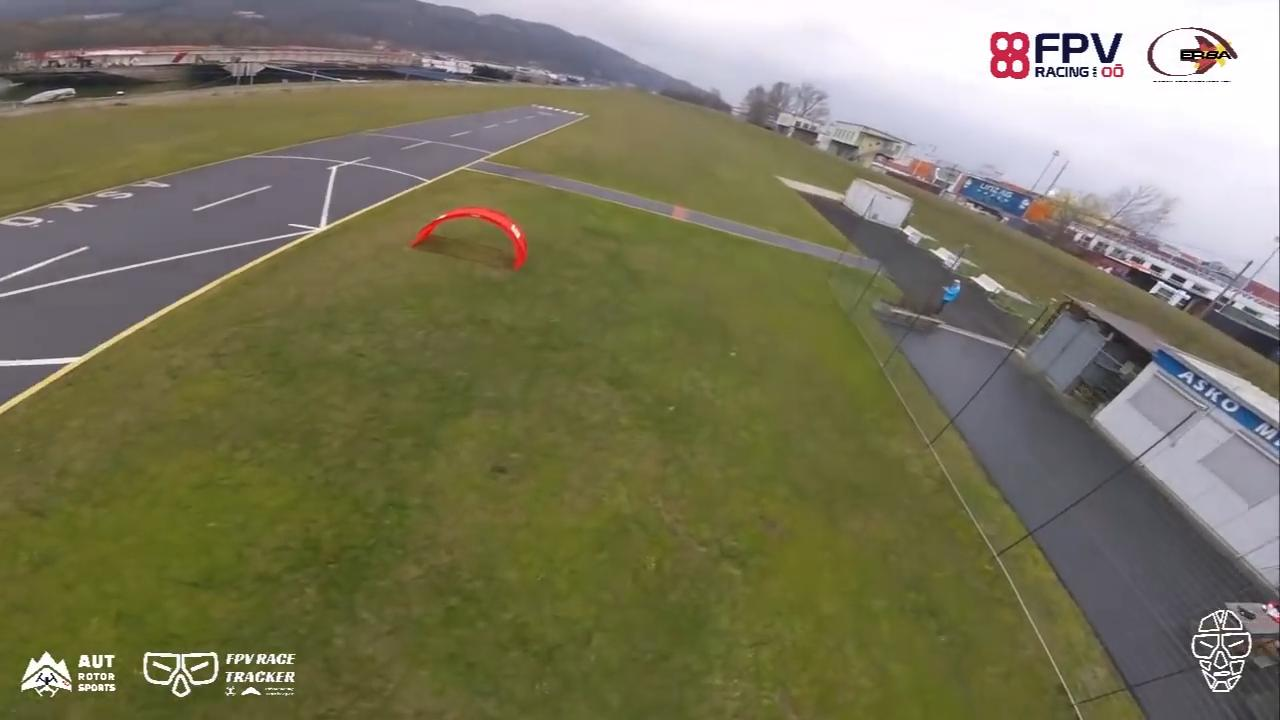gate: (410, 205, 529, 273)
